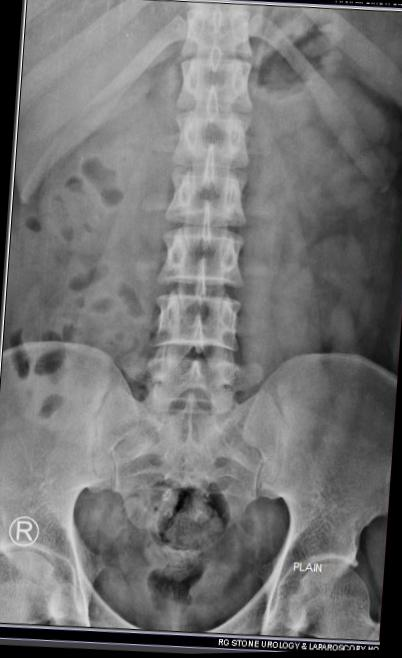vertebrae: (170, 99, 256, 170)
